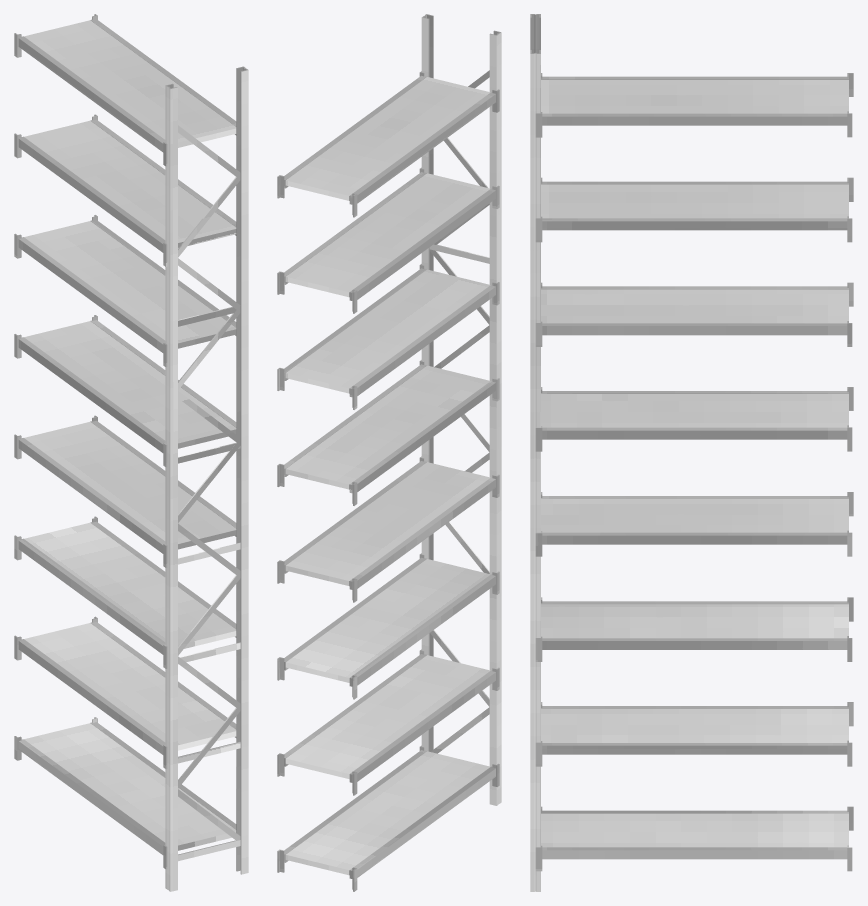
Rendered from StorageRackNarrowNoBoxes.glb.
3 views of the same model, side by side, from view 1: azimuth 30°, elevation 25°; view 2: azimuth 150°, elevation 25°; view 3: azimuth 270°, elevation 25° (orthographic). The views are drawn at different scales.
Visible parts, largest first — view 1: StorageRackNarrowNoBoxes; view 2: StorageRackNarrowNoBoxes; view 3: StorageRackNarrowNoBoxes.
Part boxes in pixels (<box>): StorageRackNarrowNoBoxes: <box>14,14,248,891</box>; StorageRackNarrowNoBoxes: <box>277,14,501,891</box>; StorageRackNarrowNoBoxes: <box>530,14,853,891</box>.
Bounding box in the file's own units: 0.6322 × 6 × 2.1.
Materials: 1 (1 with a texture image).
